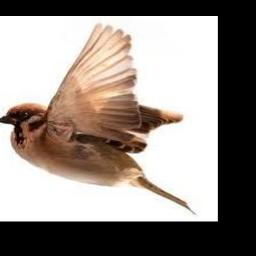Sparrow: (0, 22, 198, 214)
